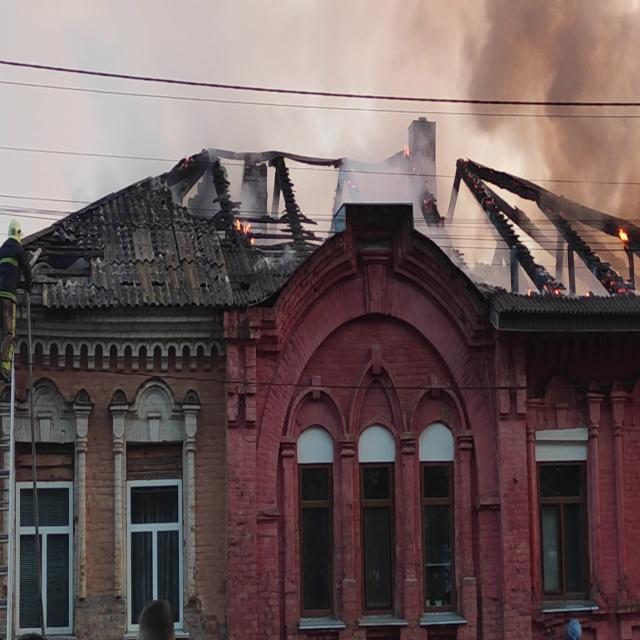fire: (598, 220, 634, 273), (231, 210, 262, 256)
smoke: (466, 0, 640, 190), (356, 126, 404, 202)
